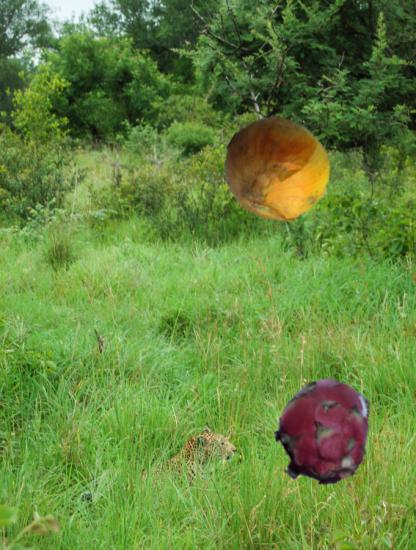Onion: (223, 115, 331, 223)
Pitahaya: (271, 379, 379, 487)
